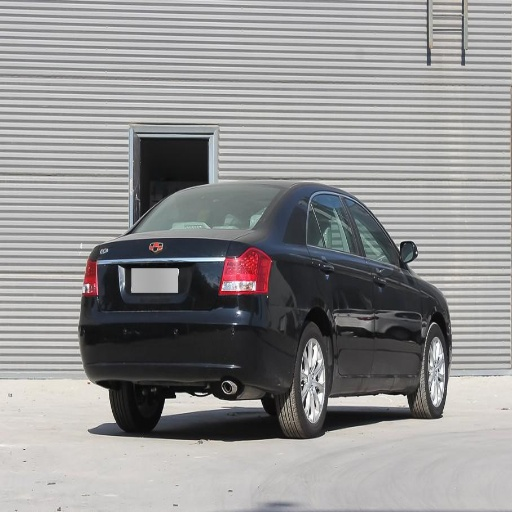back_bumper: (80, 295, 297, 387)
back_right_door: (307, 187, 373, 392)
tailgate: (97, 228, 207, 304)
trunk: (94, 236, 230, 340)
